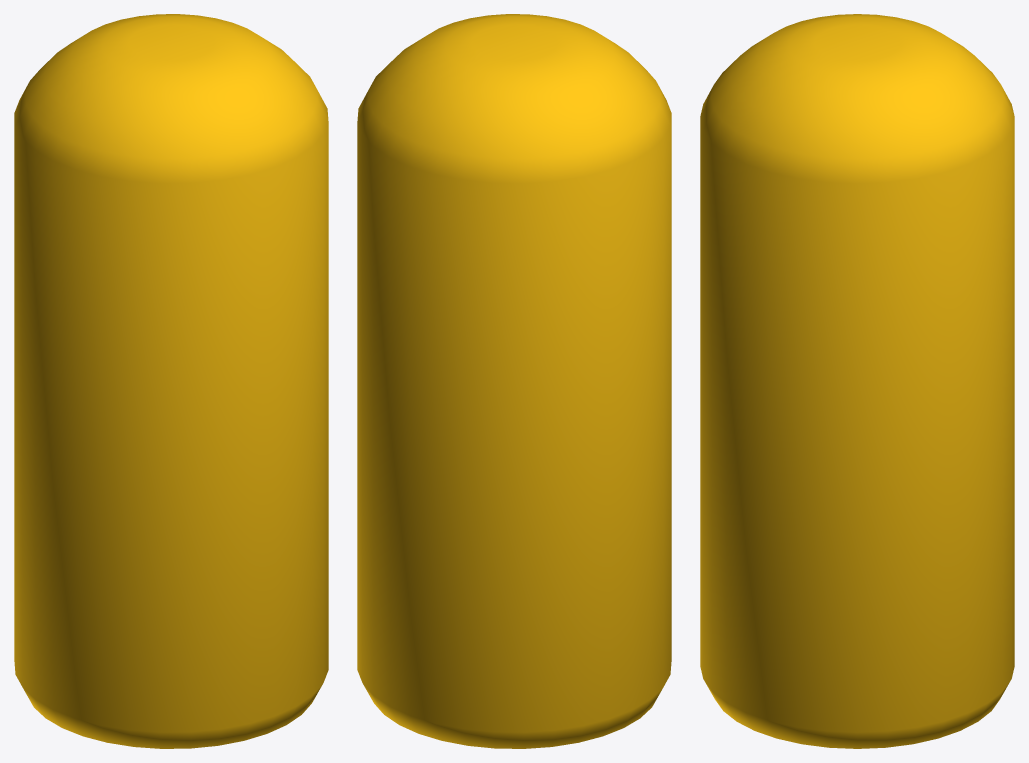
Rendered from tail_rep.glb.
3 renders of one model, left to right at view 1: azimuth 30°, elevation 25°; view 2: azimuth 150°, elevation 25°; view 3: azimuth 270°, elevation 25°, orthographic.
Parts seen in each view (by area): view 1: Cylinder; view 2: Cylinder; view 3: Cylinder.
Boxes of the visible parts, x1,y1,x2,y2 form: Cylinder: (14, 14, 328, 748); Cylinder: (357, 14, 671, 748); Cylinder: (700, 14, 1014, 748).
Size of the model in its own units: 0.1 by 0.226 by 0.1.
